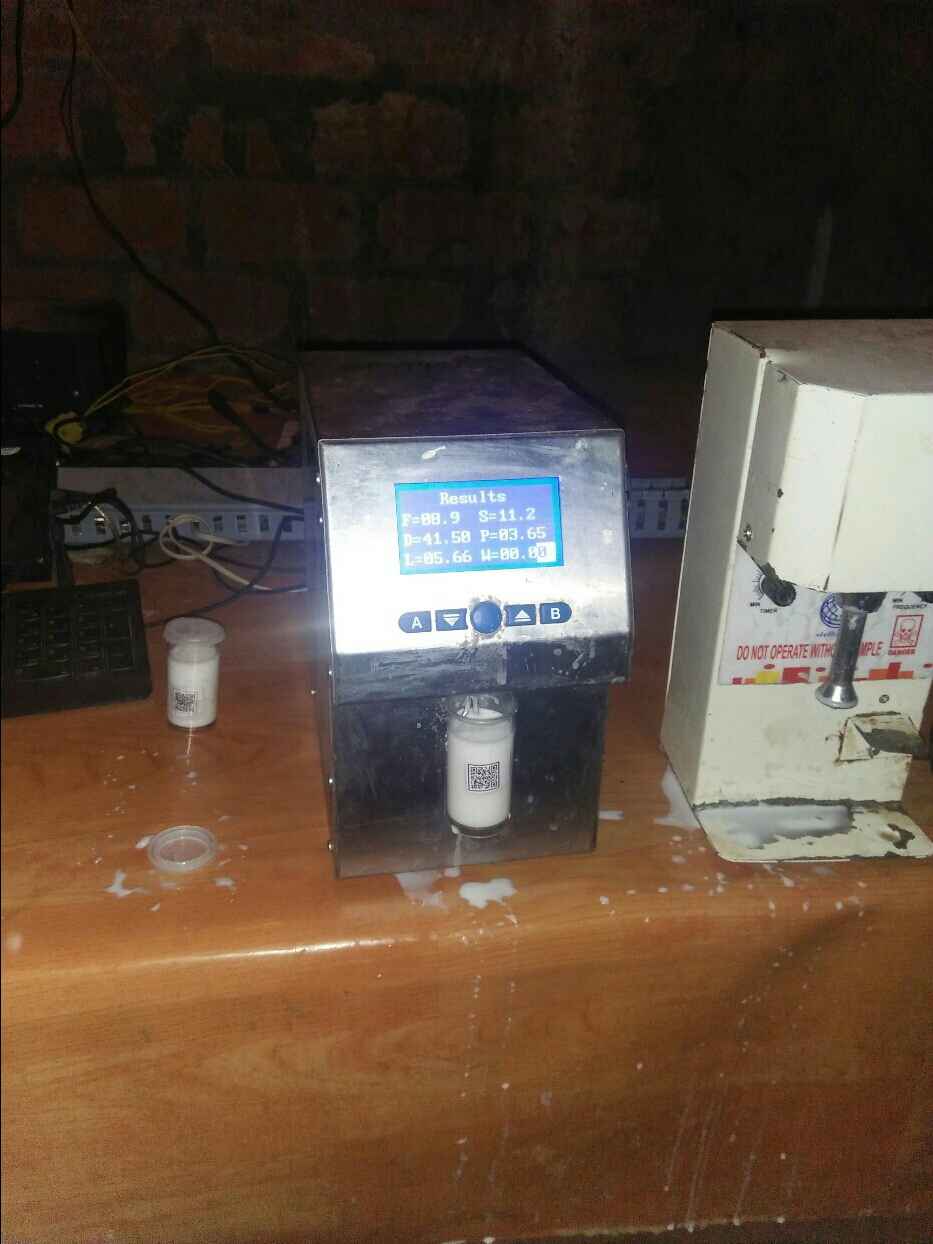lcd: (386, 476, 582, 578)
qr: (461, 757, 508, 803)
